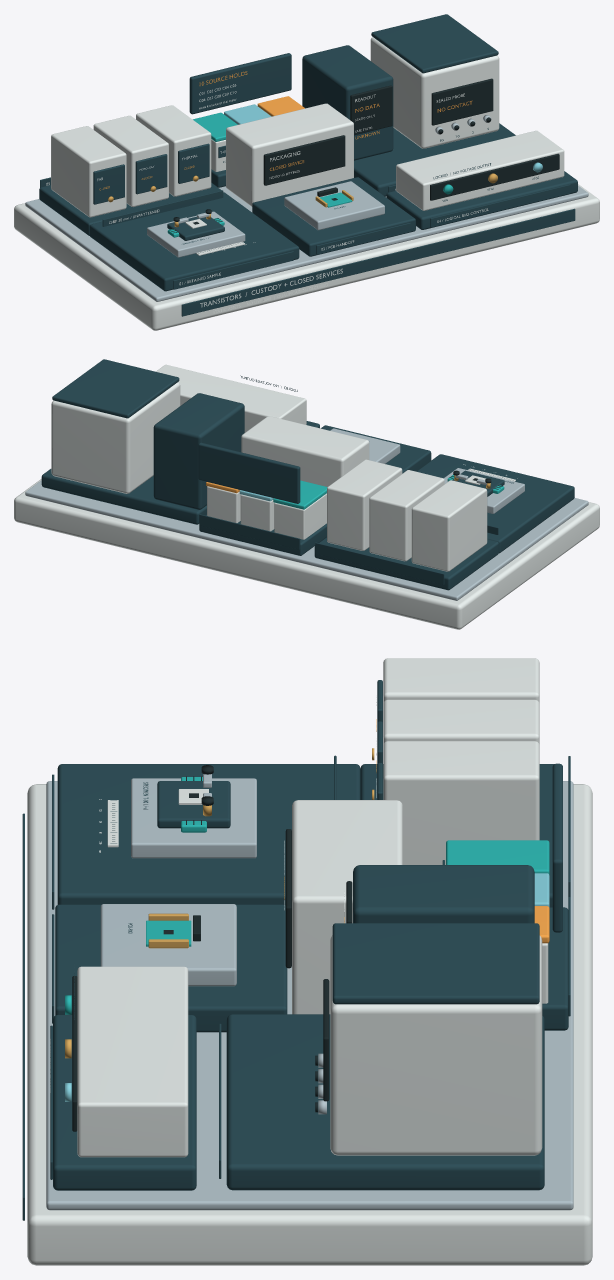
File: transistor_operations_lab.glb
3 views of the same model, one above another, from view 1: azimuth 30°, elevation 25°; view 2: azimuth 150°, elevation 25°; view 3: azimuth 270°, elevation 25° (orthographic). The views are drawn at different scales.
Visible parts, largest first — view 1: bench.base, carrier.platform, packaging.sealed_service, probe.closed_chamber, bias.closed_console, bench.top, readout.body, bench.title.plate, service.fab, probe.lid, packaging.platform, storage.conflict_panel (+22 smaller); view 2: bench.base, probe.closed_chamber, readout.body, bench.top, service.fab, packaging.sealed_service, carrier.platform, probe.lid, service.metrology, service.thermal, storage.conflict_panel, bias.closed_console (+13 smaller); view 3: bench.base, probe.closed_chamber, probe.platform, bench.top, carrier.platform, bias.closed_console, probe.lid, service.thermal, packaging.sealed_service, packaging.platform, readout.body, bias.platform (+14 smaller).
Part boxes in pixels (<box>): bench.base: <box>14,184,599,330</box>; carrier.platform: <box>89,192,299,291</box>; packaging.sealed_service: <box>226,103,353,206</box>; probe.closed_chamber: <box>370,37,499,148</box>; bias.closed_console: <box>396,130,564,210</box>; bench.top: <box>25,185,588,301</box>; readout.body: <box>302,45,393,160</box>; bench.title.plate: <box>181,208,575,316</box>; service.fab: <box>51,126,126,217</box>; probe.lid: <box>371,14,498,73</box>; packaging.platform: <box>252,177,415,256</box>; storage.conflict_panel: <box>189,53,291,114</box>; bench.base: <box>14,479,599,629</box>; probe.closed_chamber: <box>51,382,180,493</box>; readout.body: <box>153,393,244,509</box>; bench.top: <box>25,480,588,600</box>; service.fab: <box>411,480,487,571</box>; packaging.sealed_service: <box>241,416,369,486</box>; carrier.platform: <box>416,454,574,553</box>; probe.lid: <box>52,359,179,418</box>; service.metrology: <box>369,470,444,561</box>; service.thermal: <box>327,459,402,550</box>; storage.conflict_panel: <box>198,442,300,503</box>; bias.closed_console: <box>156,364,306,432</box>; bench.base: <box>27,784,592,1265</box>; probe.closed_chamber: <box>330,935,542,1155</box>; probe.platform: <box>226,1014,544,1190</box>; bench.top: <box>46,781,573,1210</box>; carrier.platform: <box>57,764,360,904</box>; bias.closed_console: <box>77,966,188,1157</box>; probe.lid: <box>332,923,539,1004</box>; service.thermal: <box>383,741,539,864</box>; packaging.sealed_service: <box>292,800,402,1014</box>; packaging.platform: <box>55,904,287,1032</box>; readout.body: <box>353,865,534,923</box>; bias.platform: <box>53,1014,196,1190</box>.
Bounding box in the file's own units: 2.05 × 0.5725 × 1.13.
